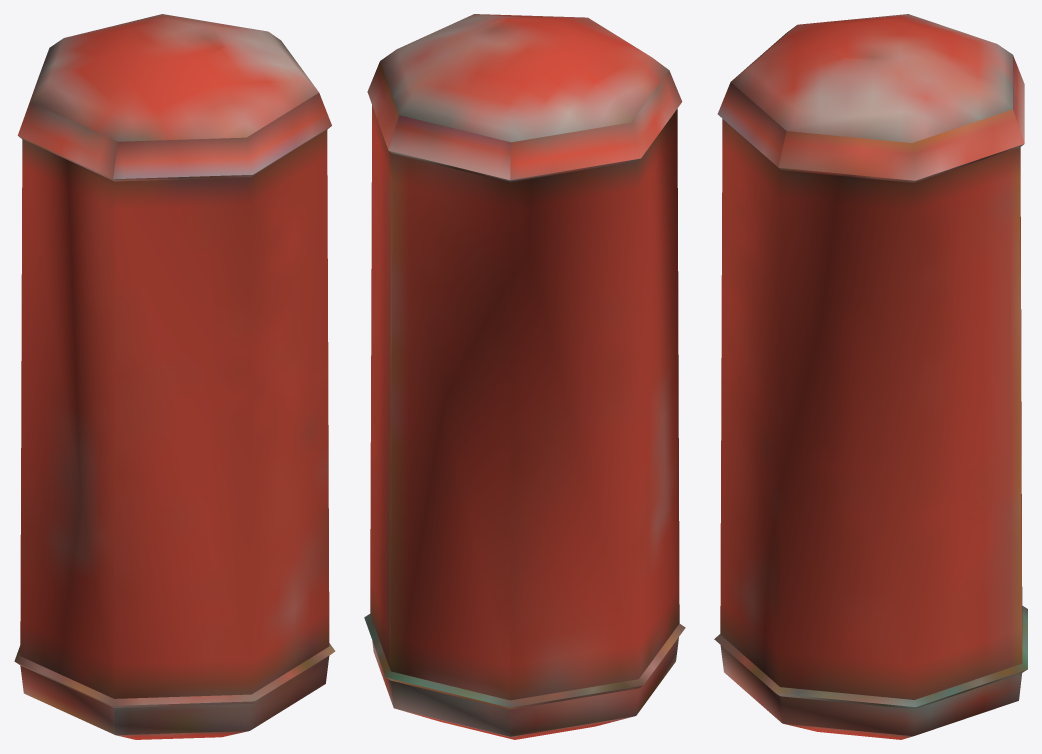
File: junk_08-v2.glb
3 views of the same model, side by side, from view 1: azimuth 30°, elevation 25°; view 2: azimuth 150°, elevation 25°; view 3: azimuth 270°, elevation 25° (orthographic).
Parts seen in each view (by area): view 1: junk_08; view 2: junk_08; view 3: junk_08.
Boxes of the visible parts, <box> form: junk_08: <box>14,14,335,739</box>; junk_08: <box>364,14,685,739</box>; junk_08: <box>714,14,1027,739</box>.
Size of the model in its own units: 1.21 by 2.73 by 1.18.
Materials: 1 (1 with a texture image).
